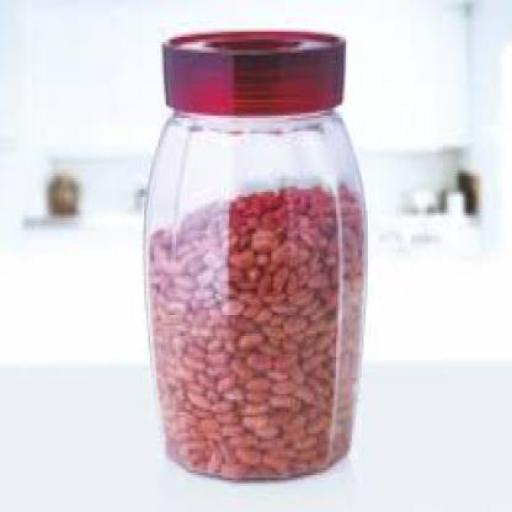biodegradable: (147, 179, 358, 470)
glass: (141, 108, 364, 478)
plastic: (160, 28, 345, 116)
